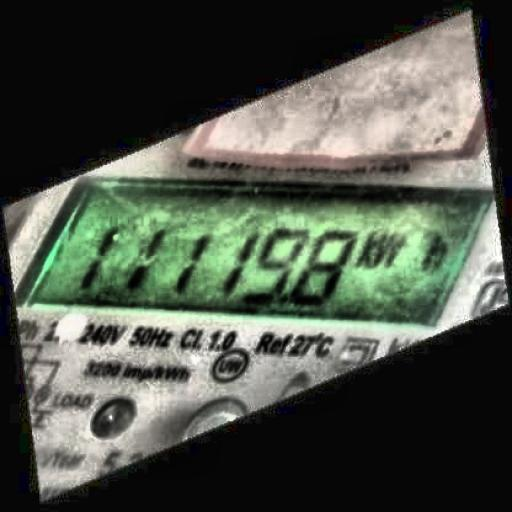DISPLAY_REGION: (4, 172, 500, 334)
SERIAL_REGION: (76, 220, 417, 305)
